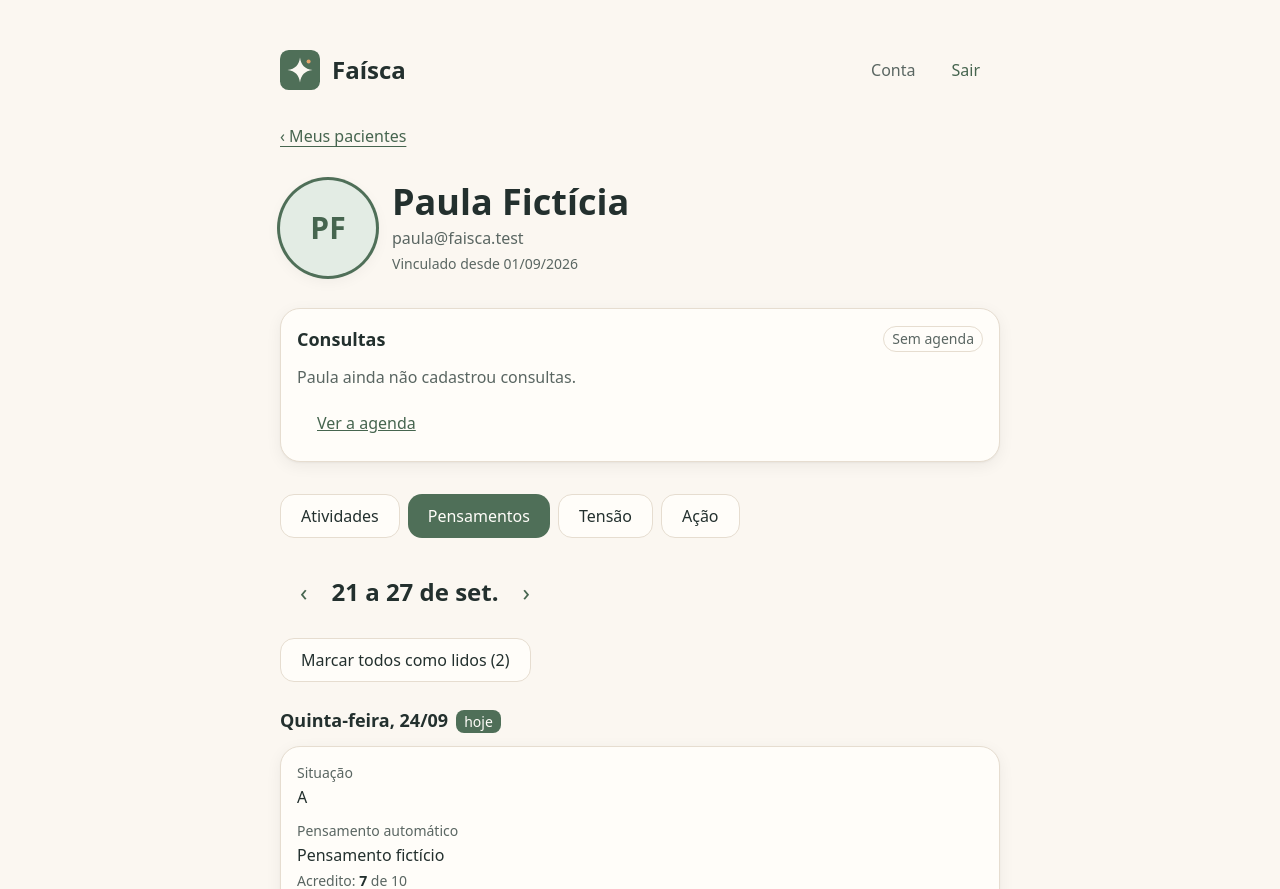
Test case: "Marcar todos como lidos" › marca só os pendentes da lista aberta, depois de confirmar
The image size is (1280, 889).
Click the button "Marcar todos como lidos (2)" at (405, 660), box x1=280 y1=638 x2=530 y2=682
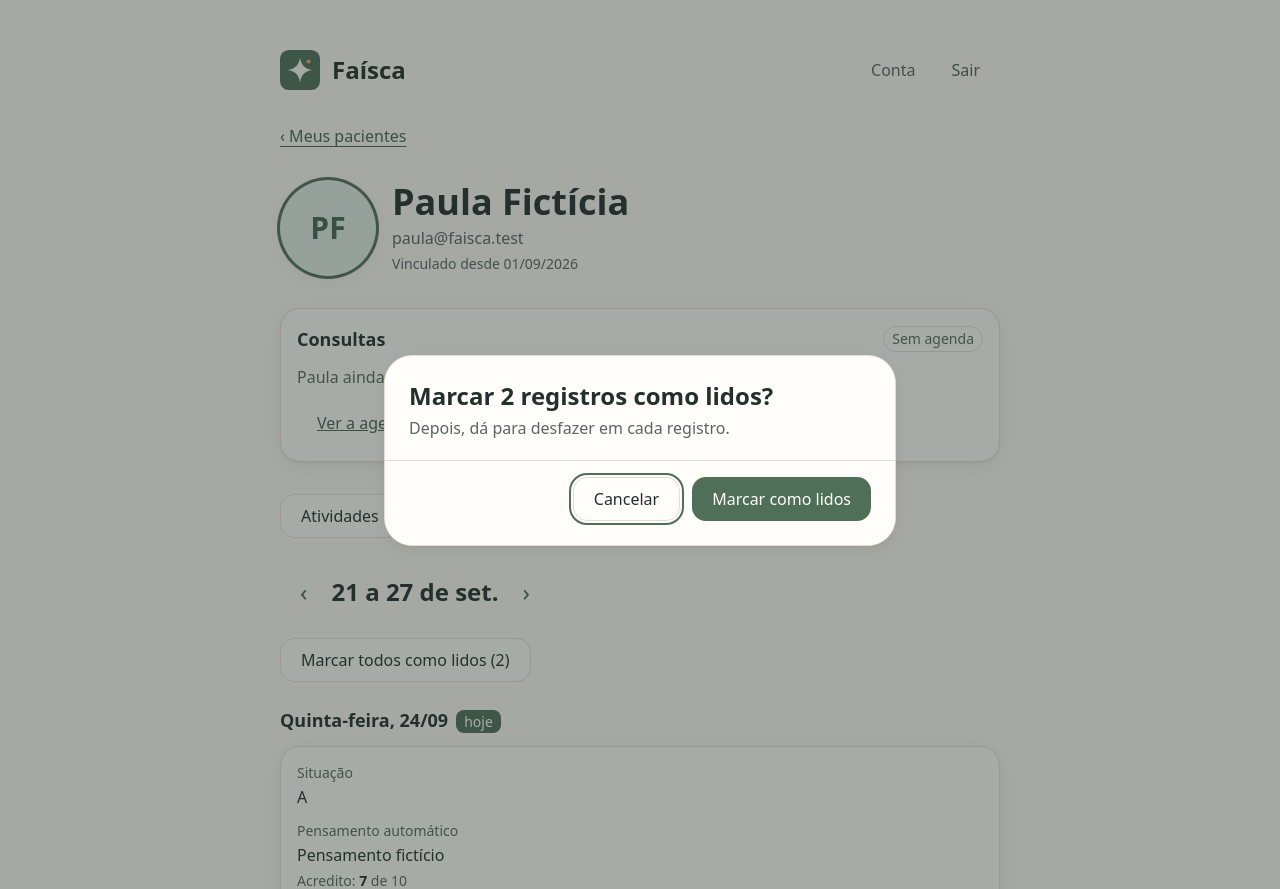
Click the button "Marcar como lidos" at (782, 498), box x1=692 y1=476 x2=871 y2=520
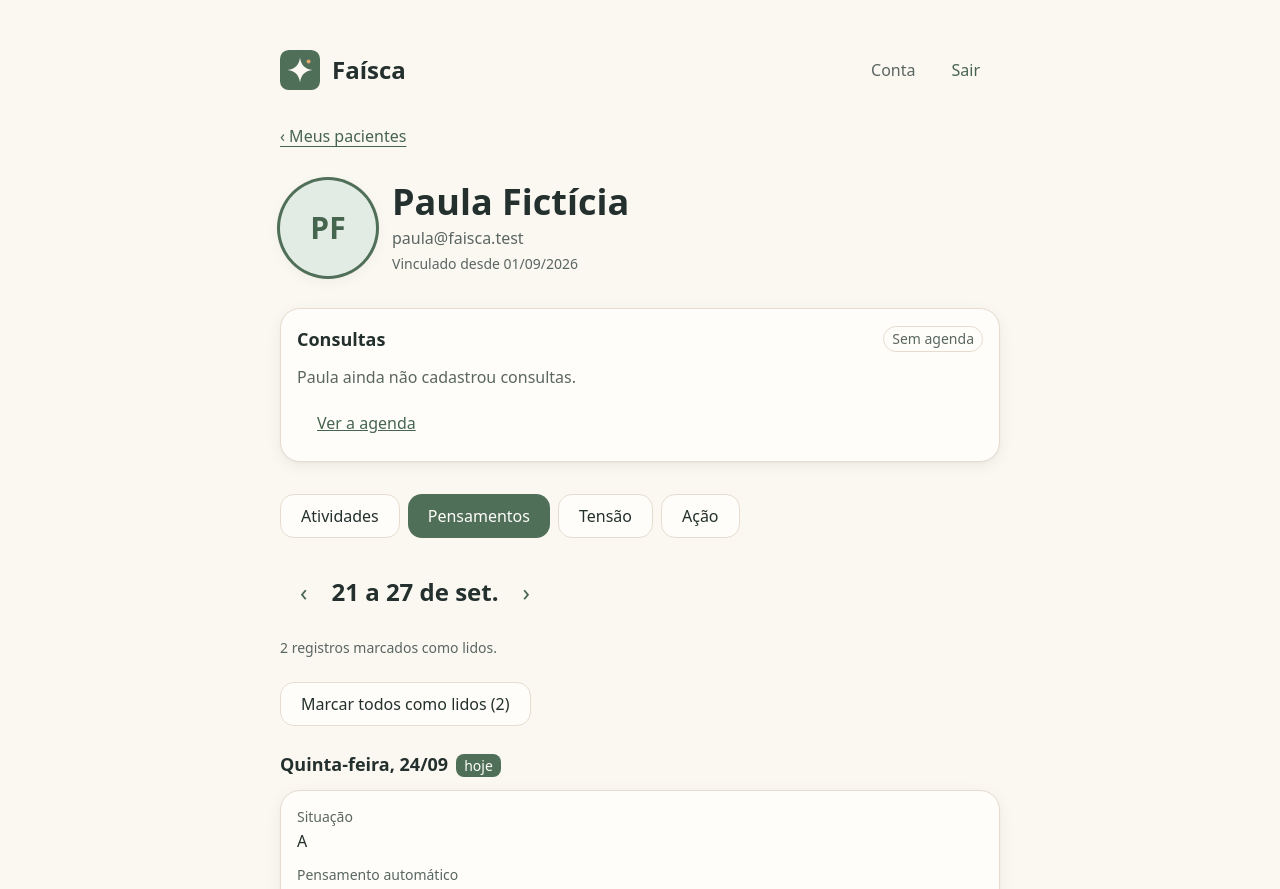
Expected: the message reads "2 registros marcados como lidos.", x1=280 y1=638 x2=497 y2=657
